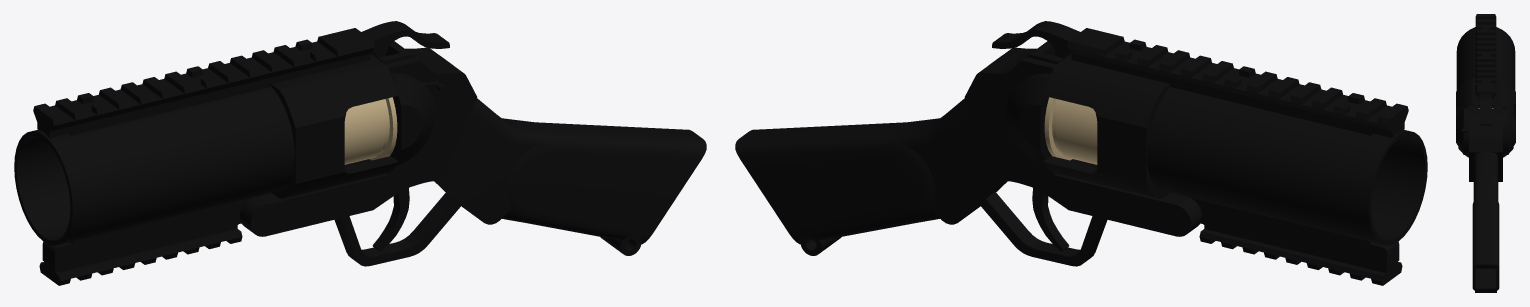
3 views of the same model, side by side, from view 1: azimuth 30°, elevation 25°; view 2: azimuth 150°, elevation 25°; view 3: azimuth 270°, elevation 25° (orthographic). The views are drawn at different scales.
Visible parts, largest first — view 1: Barrel004, Grip006, Bullet006; view 2: Barrel004, Grip006, Bullet006; view 3: Grip006, Barrel004.
Boxes of the visible parts, box(x1,y1,x2,y2) form: Barrel004: box(14, 28, 398, 285); Grip006: box(239, 21, 706, 266); Bullet006: box(344, 97, 397, 164); Barrel004: box(1043, 28, 1427, 285); Grip006: box(735, 21, 1202, 266); Bullet006: box(1044, 97, 1097, 164); Grip006: box(1456, 93, 1515, 292); Barrel004: box(1456, 14, 1515, 157).
Bounding box in the file's own units: 0.3094 × 0.1248 × 0.0491.
